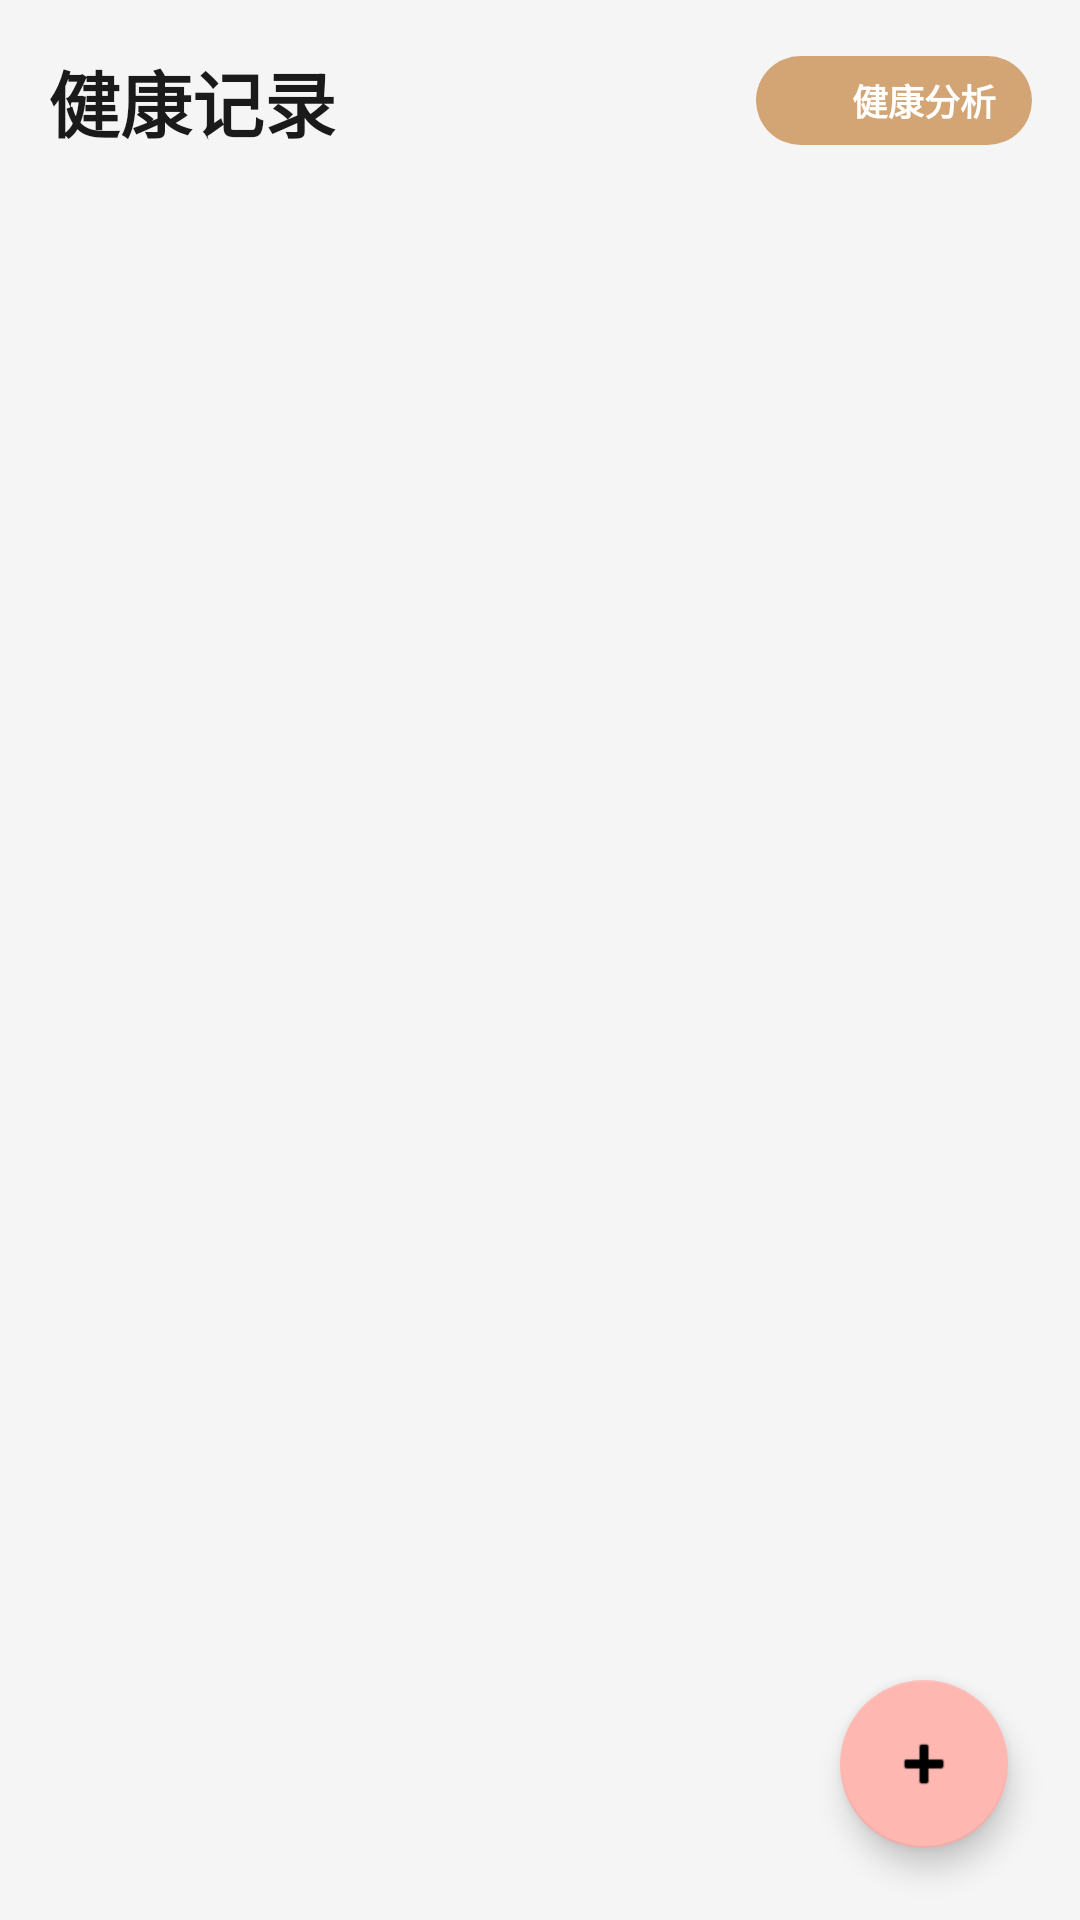

Screen size 1080w x 1920h. Icon name, then its box in pixels as [left=x1, top=y1, right=x2, bottom=y2]:
添加记录: [left=840, top=1680, right=1008, bottom=1848]
